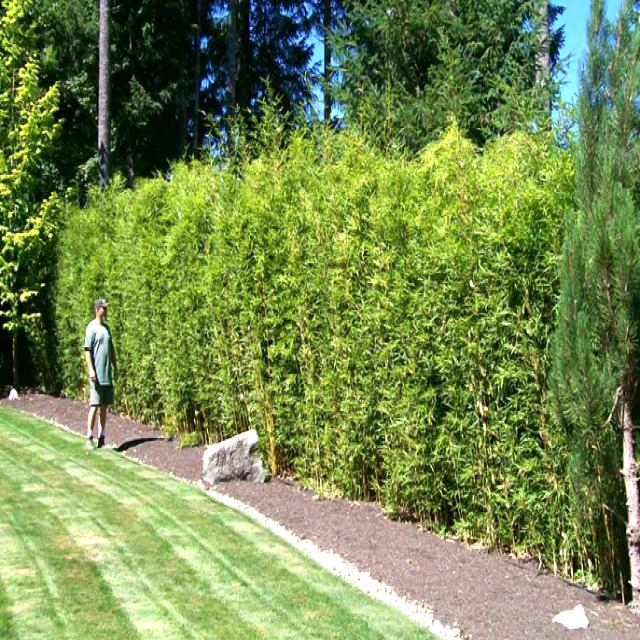Clumping: (125, 164, 640, 487)
